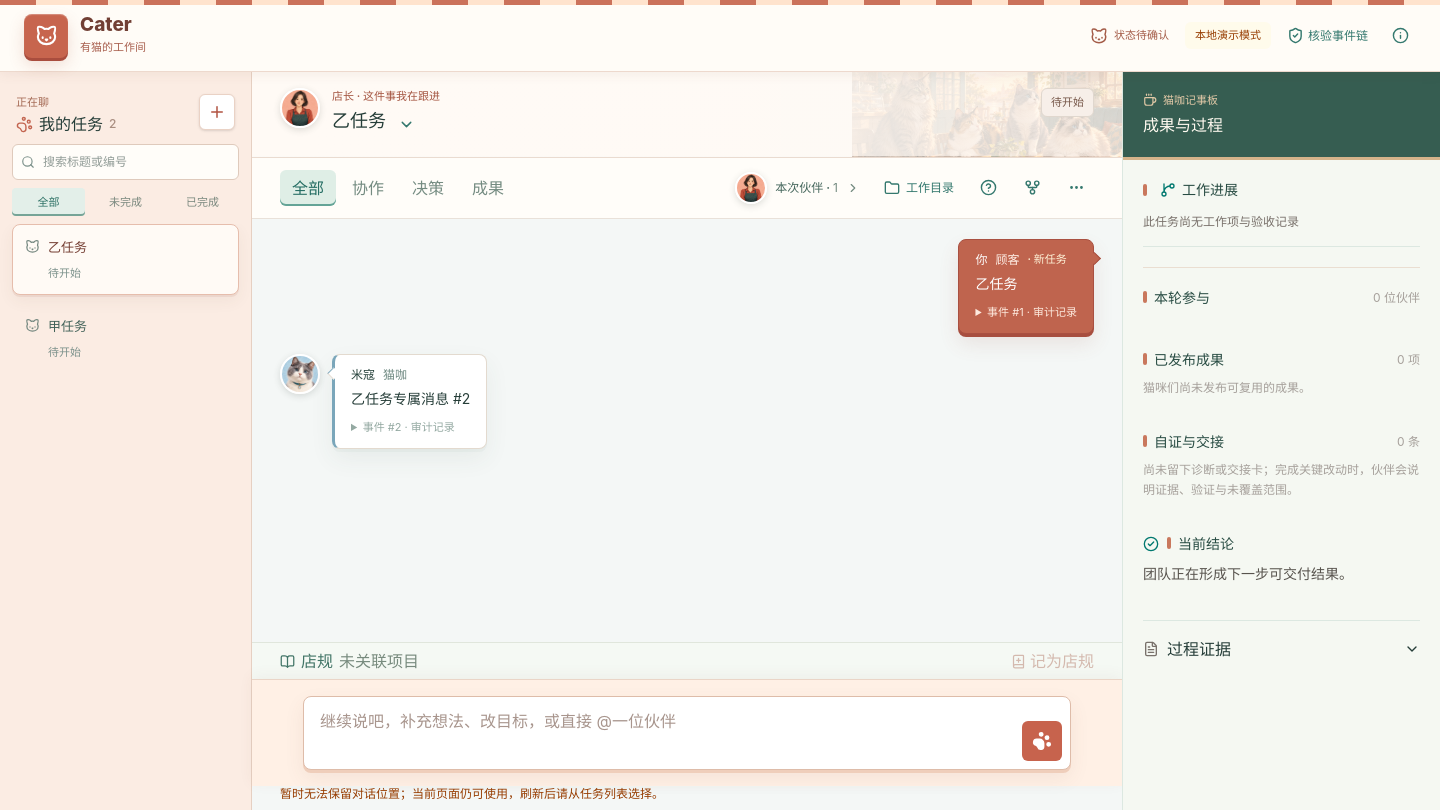
Test: 进度问答在聊天中显示，不冒充方向变更或再次排队
In the text box named "向团队发送消息": (663, 733) [312, 705, 1014, 761], type "进度怎么样？"
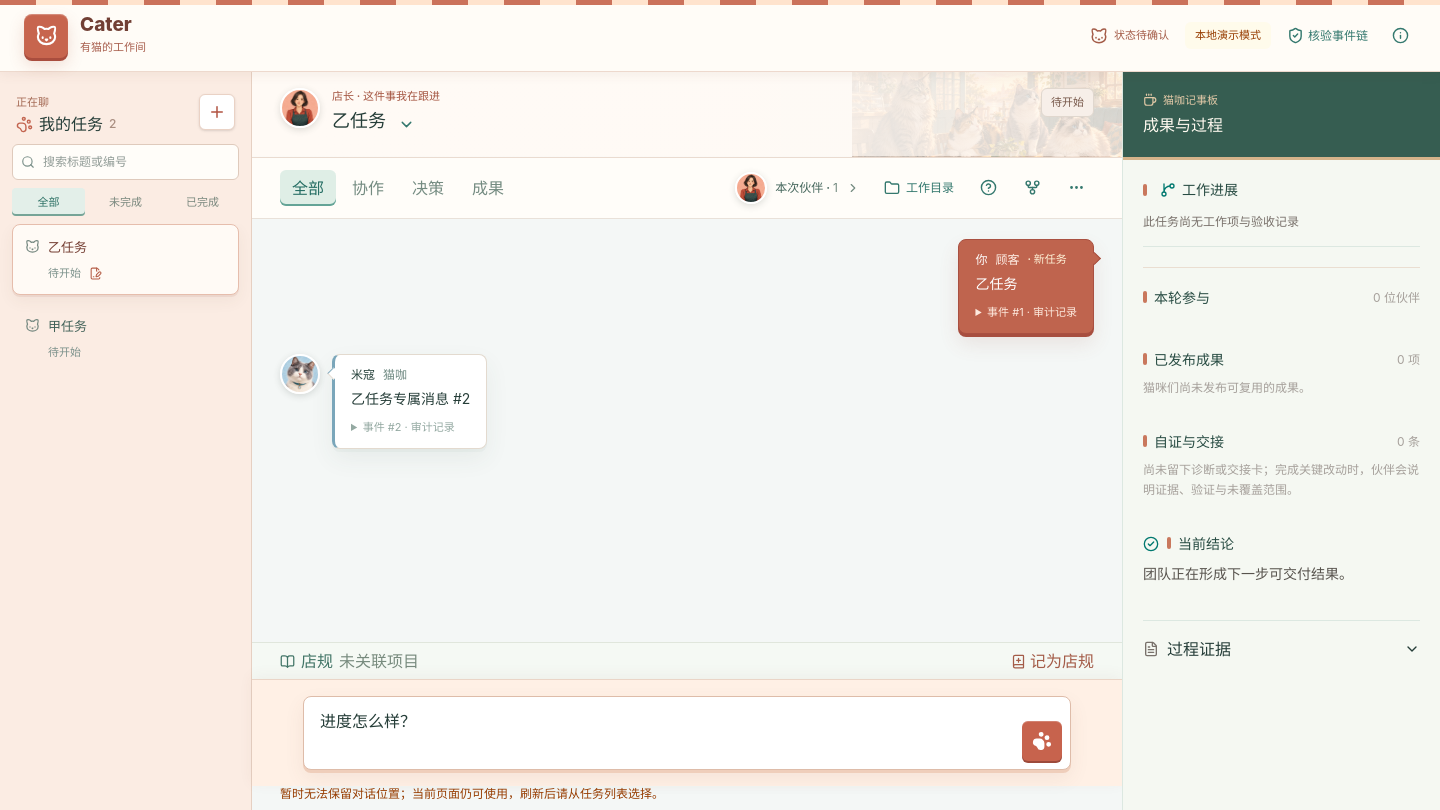
Click the button named "发送消息": (1042, 741) [1022, 721, 1062, 761]
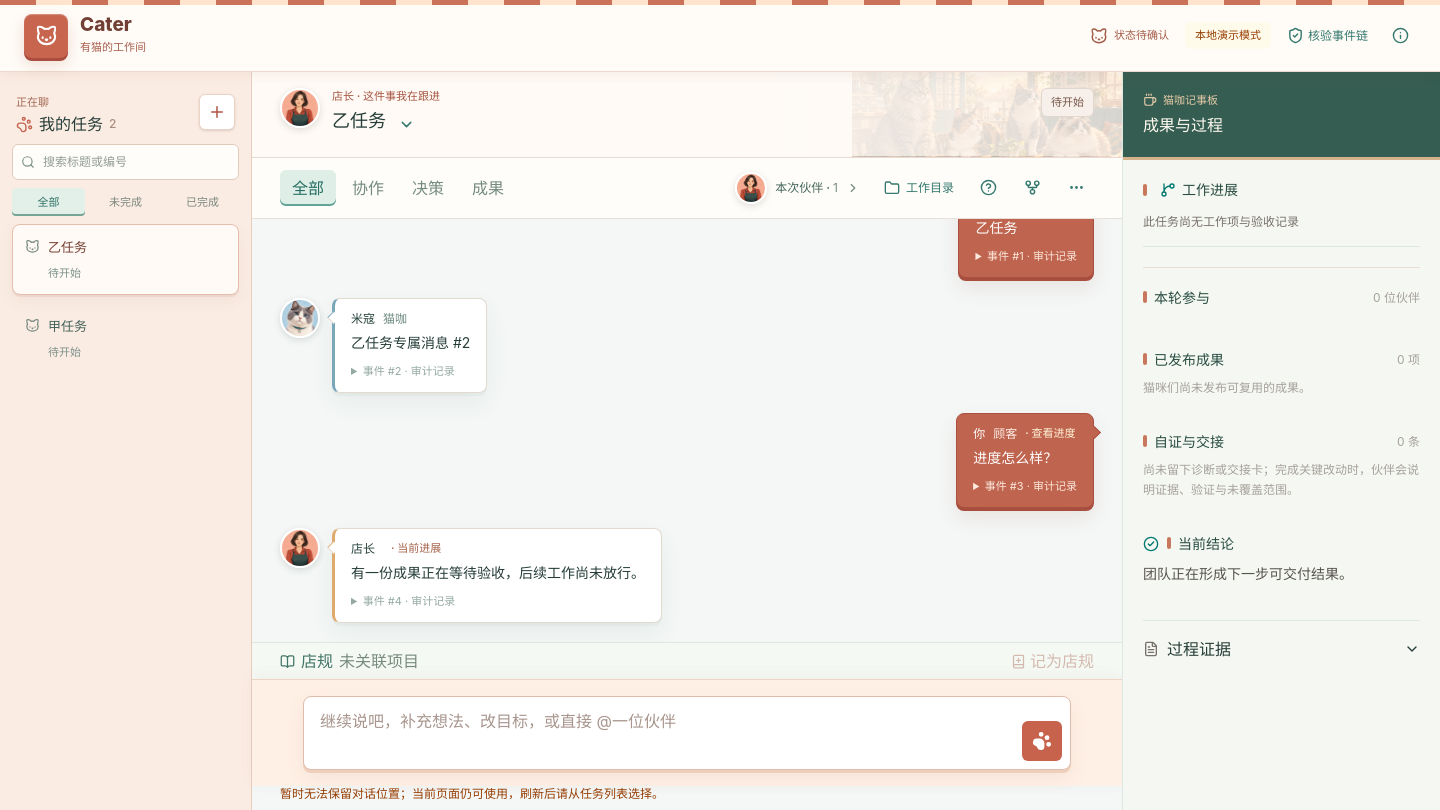
Now the text "有一份成果正在等待验收，后续工作尚未放行。" is shown, box [351, 560, 645, 585]
Now the text box named "向团队发送消息" is empty, box [312, 705, 1014, 761]
